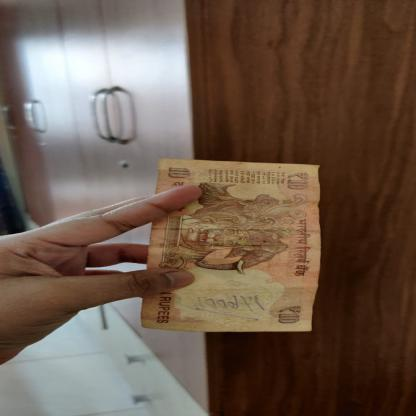Old10Back: (141, 158, 322, 332)
